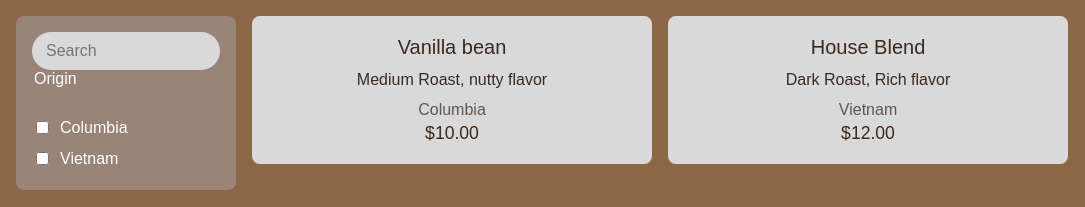
Test: Shop page › narrows the list as the user types in the search box
Check: the heading "Vanilla bean" is shown, box [398, 36, 506, 58]
Type "house" into the search field named "Search coffee".
click(126, 51); type("house")  # box [32, 32, 220, 70]
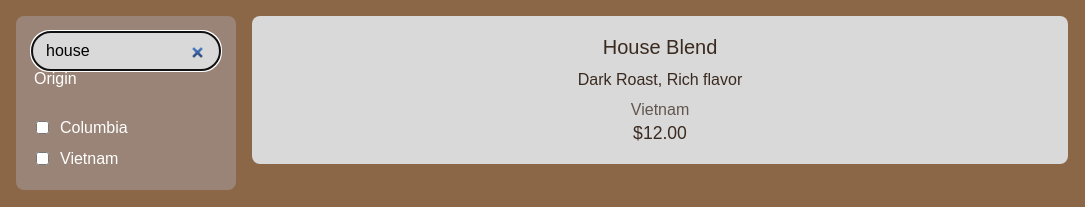
Check: the heading "House Blend" is shown, box [603, 36, 717, 58]
Check: the link "Vanilla bean" is gone
